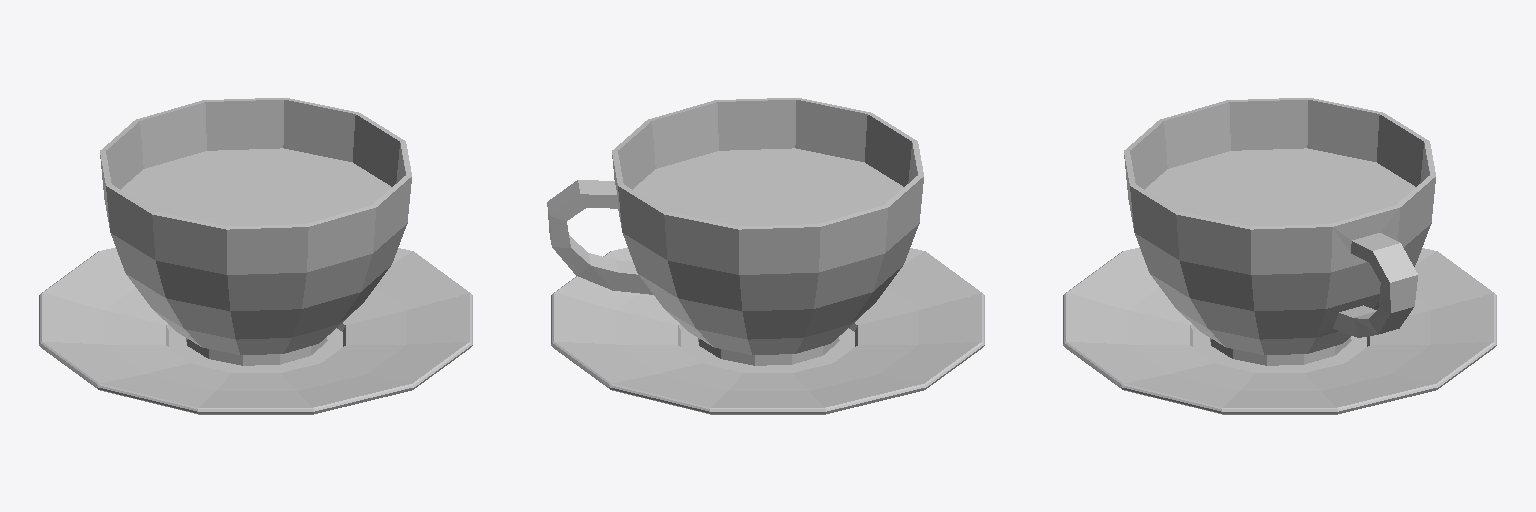
The model's file is cup of tea.obj.
3 renders of one model, left to right at view 1: azimuth 30°, elevation 25°; view 2: azimuth 150°, elevation 25°; view 3: azimuth 270°, elevation 25°, orthographic.
Size of the model in its own units: 3.46 by 1.64 by 3.46.